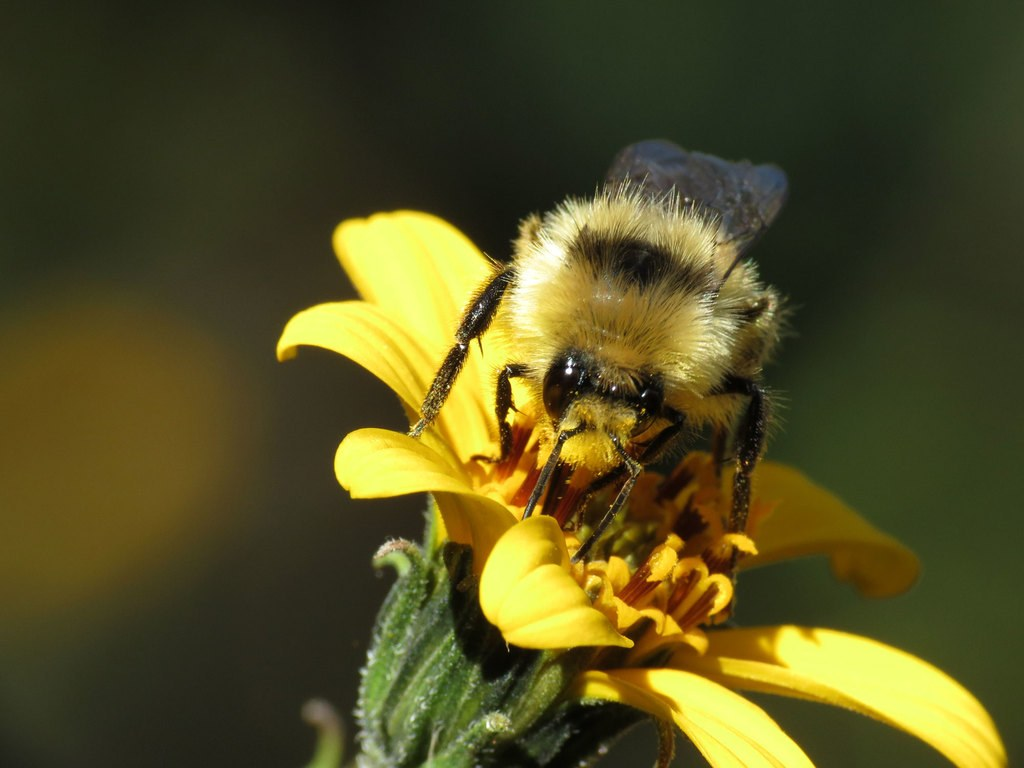bee: (413, 142, 793, 598)
